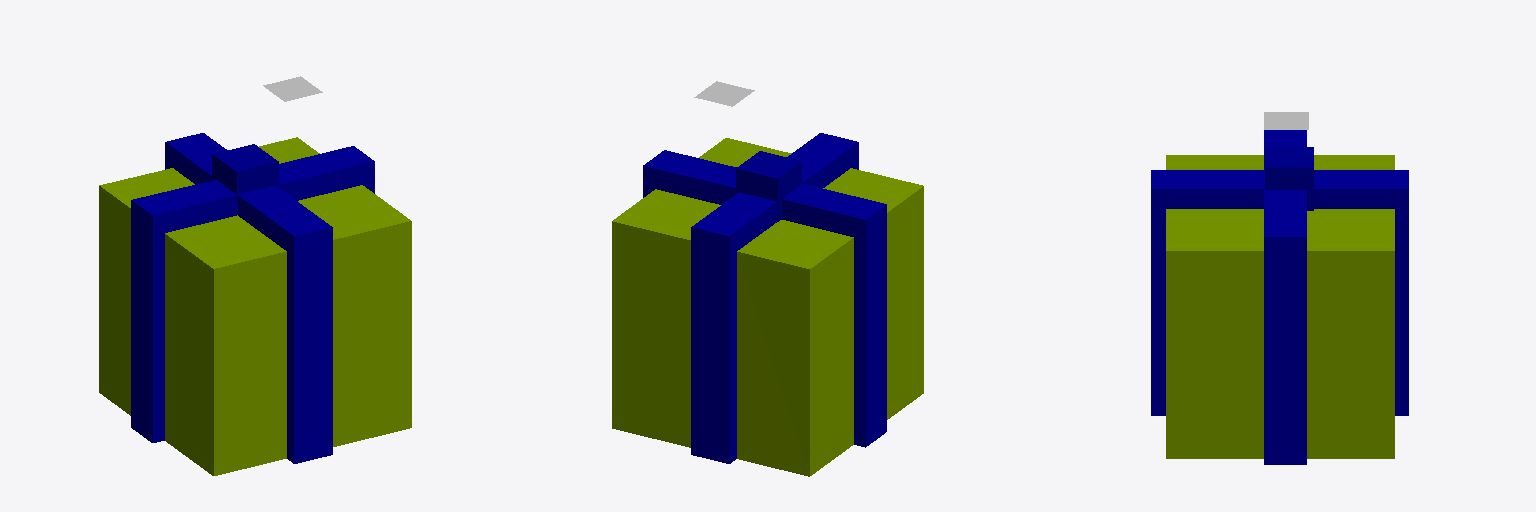
The model's file is REGALO_Alex.obj.
3 views of the same model, side by side, from view 1: azimuth 30°, elevation 25°; view 2: azimuth 150°, elevation 25°; view 3: azimuth 270°, elevation 25° (orthographic).
Parts seen in each view (by area): view 1: Cube_REGALO, Cube.001_Cube, Plane.001; view 2: Cube_REGALO, Cube.001_Cube, Plane.001; view 3: Cube_REGALO, Cube.001_Cube, Plane.001.
Boxes of the visible parts, x1=… form: Cube_REGALO: x1=99, y1=133, x2=411, y2=475; Cube.001_Cube: x1=212, y1=144, x2=278, y2=194; Plane.001: x1=263, y1=76, x2=322, y2=101; Cube_REGALO: x1=612, y1=133, x2=923, y2=476; Cube.001_Cube: x1=736, y1=151, x2=801, y2=221; Plane.001: x1=694, y1=81, x2=754, y2=106; Cube_REGALO: x1=1151, y1=130, x2=1408, y2=464; Cube.001_Cube: x1=1265, y1=147, x2=1313, y2=210; Plane.001: x1=1264, y1=112, x2=1308, y2=129.
Bounding box in the file's own units: 2.25 × 2.98 × 2.26.